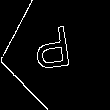P_S: (36, 25, 80, 80)
